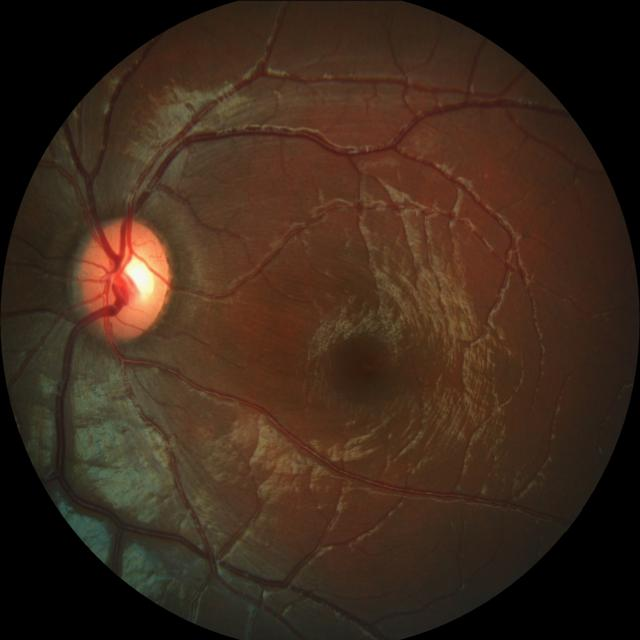OC: (108, 248, 158, 300)
OD: (76, 215, 170, 339)
